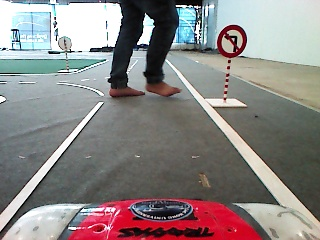ban_left: (217, 24, 247, 57)
